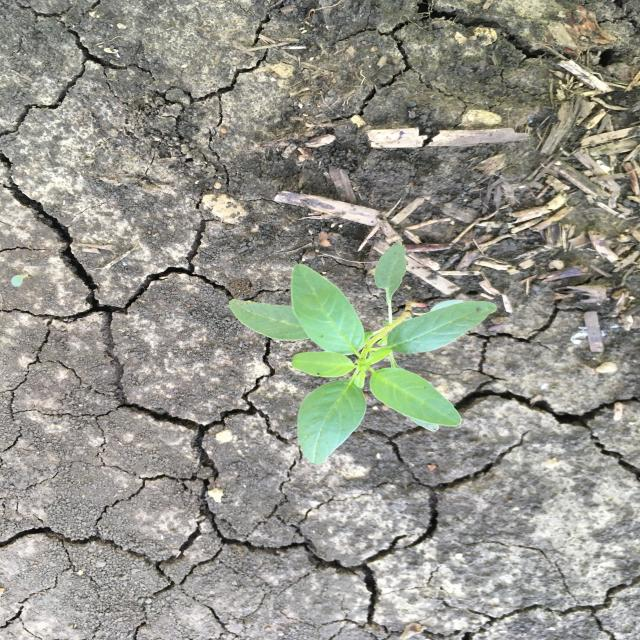Waterhemp: (227, 243, 498, 468)
